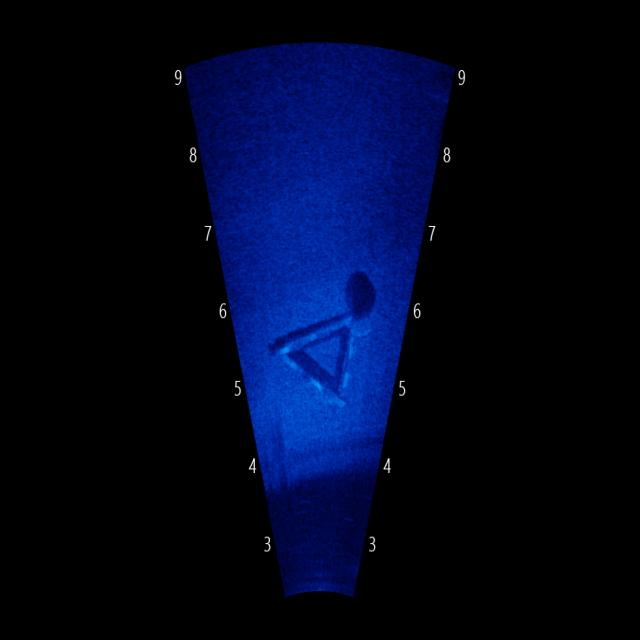triangle: (270, 297, 371, 419)
